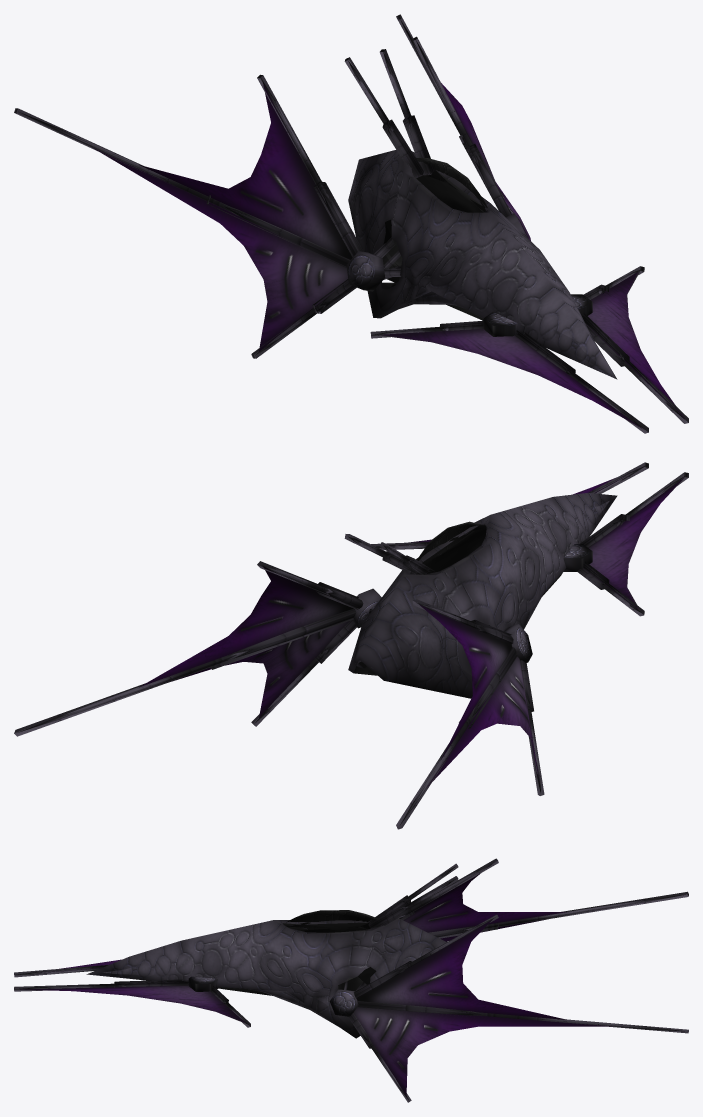
The model's file is taizong.obj.
3 renders of one model, top to bottom at view 1: azimuth 30°, elevation 25°; view 2: azimuth 150°, elevation 25°; view 3: azimuth 270°, elevation 25°, orthographic. The views are drawn at different scales.
Bounding box in the file's own units: 48.11 × 29.27 × 98.59.
4 materials, 4 textured.
